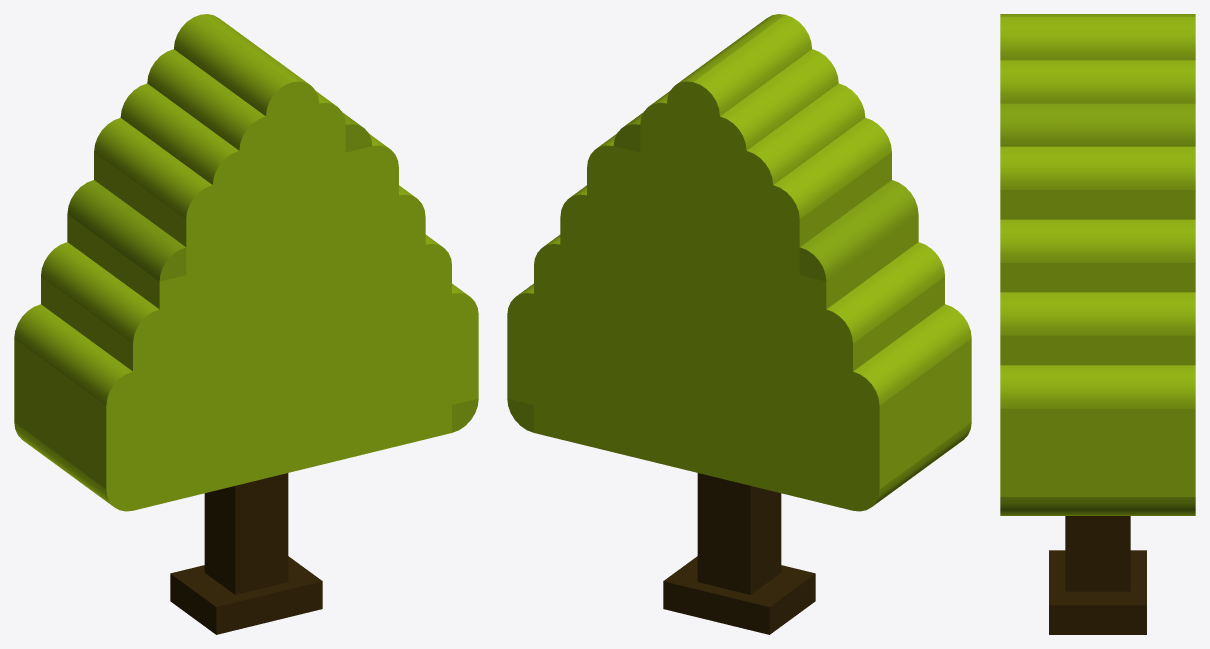
The model's file is treeboy.dae.
The picture shows the model from 3 angles, left to right: view 1: azimuth 30°, elevation 25°; view 2: azimuth 150°, elevation 25°; view 3: azimuth 270°, elevation 25°; orthographic projection. The views are drawn at different scales.
Visible parts, largest first — view 1: generated; view 2: generated; view 3: generated.
Boxes of the visible parts, left/top/right/bottom form: generated: left=14, top=14, right=478, bottom=634; generated: left=507, top=14, right=971, bottom=634; generated: left=1000, top=14, right=1195, bottom=634.
Bounding box in the file's own units: 14 × 20 × 6.
